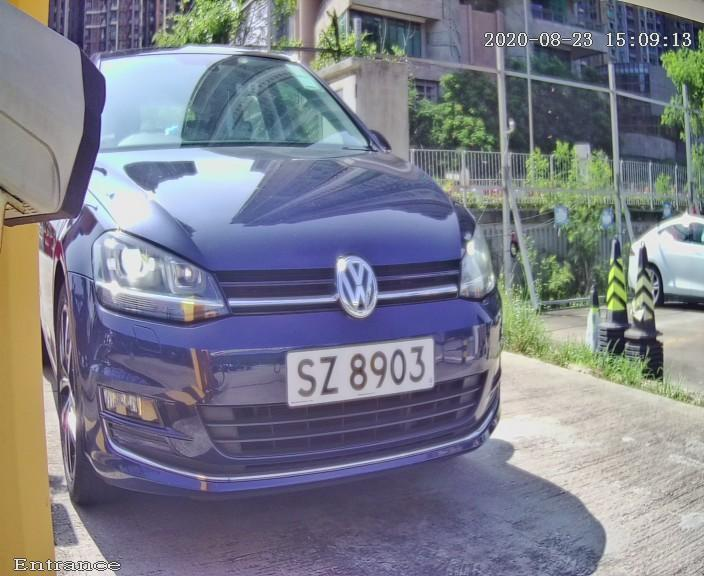Car: (10, 8, 547, 548)
License Plate: (259, 317, 473, 434)
